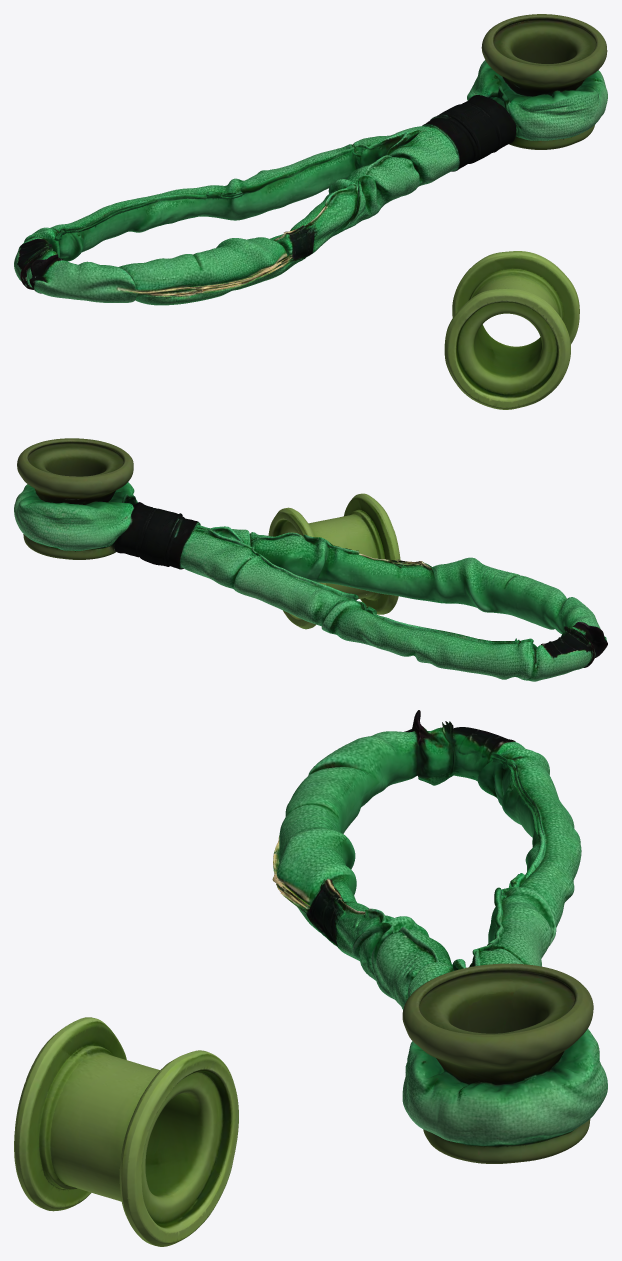
File: SujecionTPR.glb
3 views of the same model, one above another, from view 1: azimuth 30°, elevation 25°; view 2: azimuth 150°, elevation 25°; view 3: azimuth 270°, elevation 25° (orthographic). The views are drawn at different scales.
Parts seen in each view (by area): view 1: tripo_node_362accc6-f8cc-4cd9-89ee-19596d4b7a81; view 2: tripo_node_362accc6-f8cc-4cd9-89ee-19596d4b7a81; view 3: tripo_node_362accc6-f8cc-4cd9-89ee-19596d4b7a81.
Part boxes in pixels (<box>): tripo_node_362accc6-f8cc-4cd9-89ee-19596d4b7a81: <box>14,14,607,409</box>; tripo_node_362accc6-f8cc-4cd9-89ee-19596d4b7a81: <box>14,438,607,681</box>; tripo_node_362accc6-f8cc-4cd9-89ee-19596d4b7a81: <box>14,710,607,1246</box>.
Bounding box in the file's own units: 0.9785 × 0.3522 × 0.5534.
Materials: 1 (1 with a texture image).
